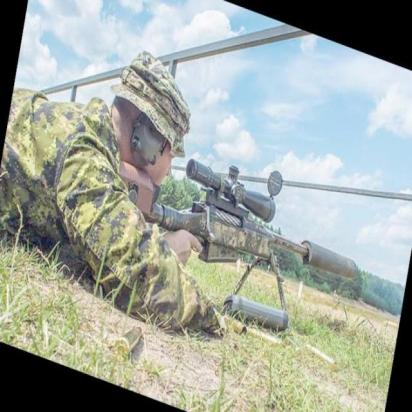Gun: (147, 144, 341, 292)
